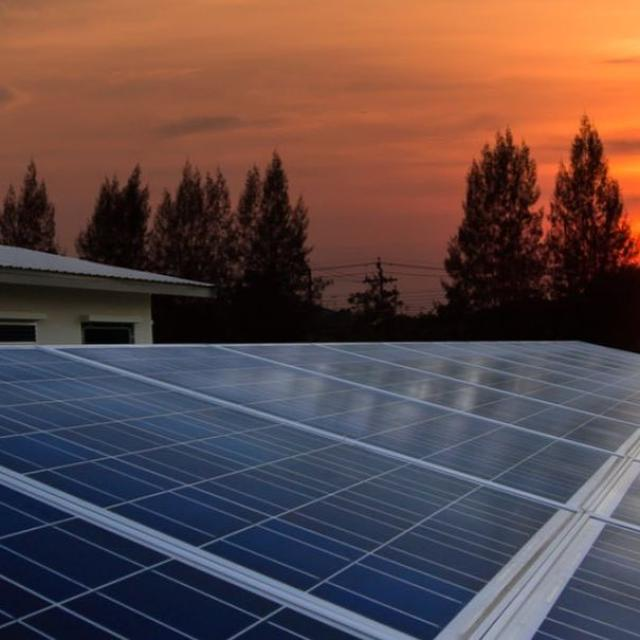clean-solar-panel: (1, 341, 640, 640)
